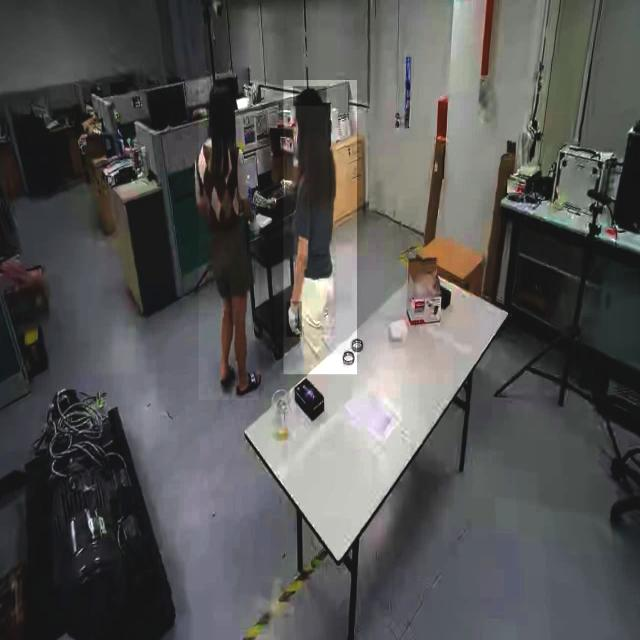hand_glove: (286, 301, 302, 338)
head_nohelmet: (292, 86, 326, 107), (210, 77, 236, 97)
person: (283, 80, 357, 375), (198, 80, 258, 401)
